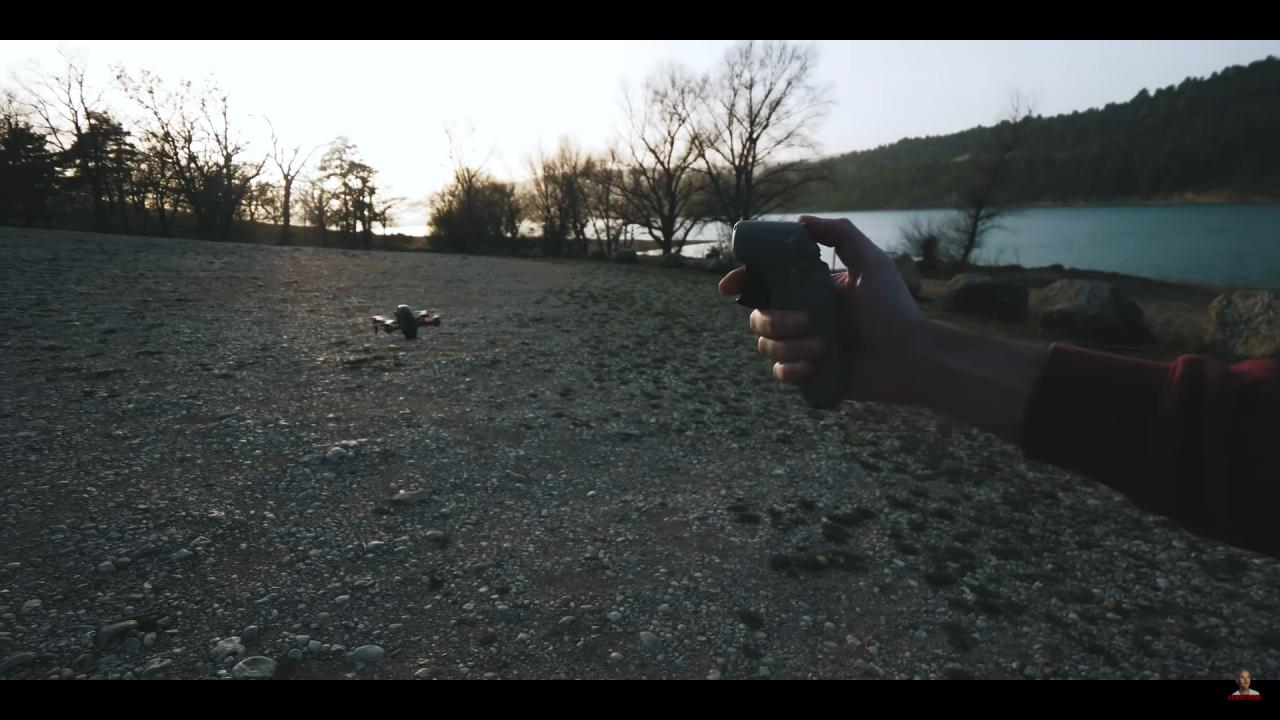Drone: (364, 295, 449, 347)
